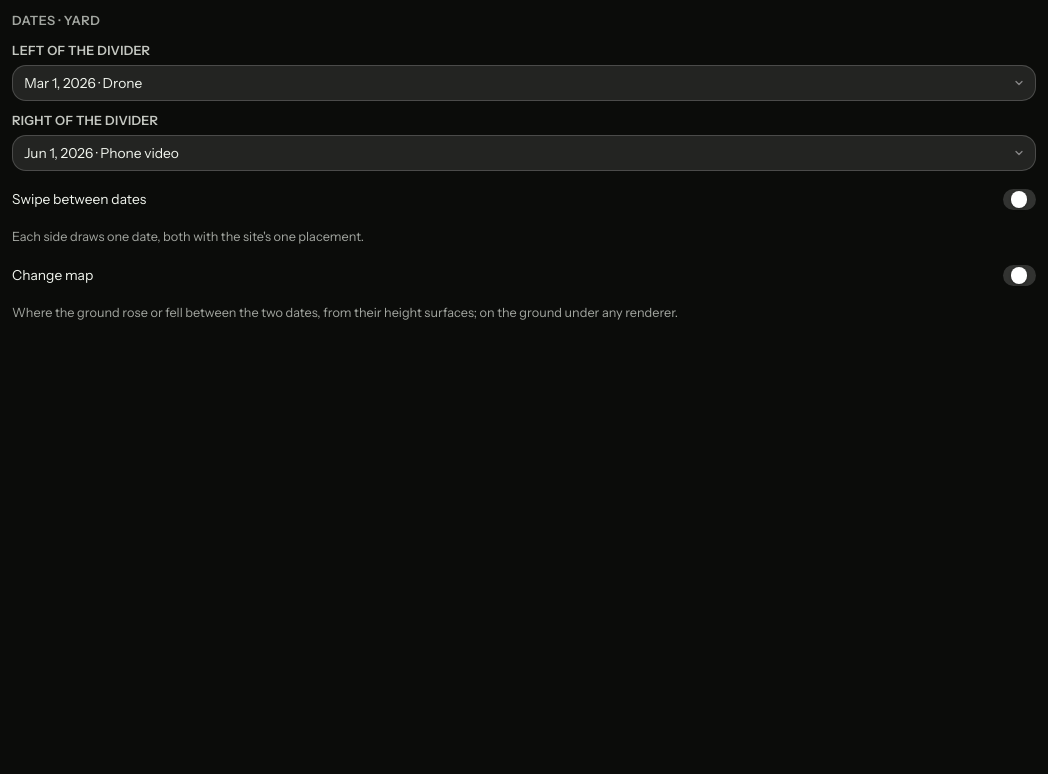
Scenario: the drape and its legend › says nothing of survey grade when both dates are survey-grade
The width and height of the screenshot is (1048, 774).
Click the switch named "Change map" in the row of "Change map": {"x": 1019, "y": 276} [1003,265,1036,286]
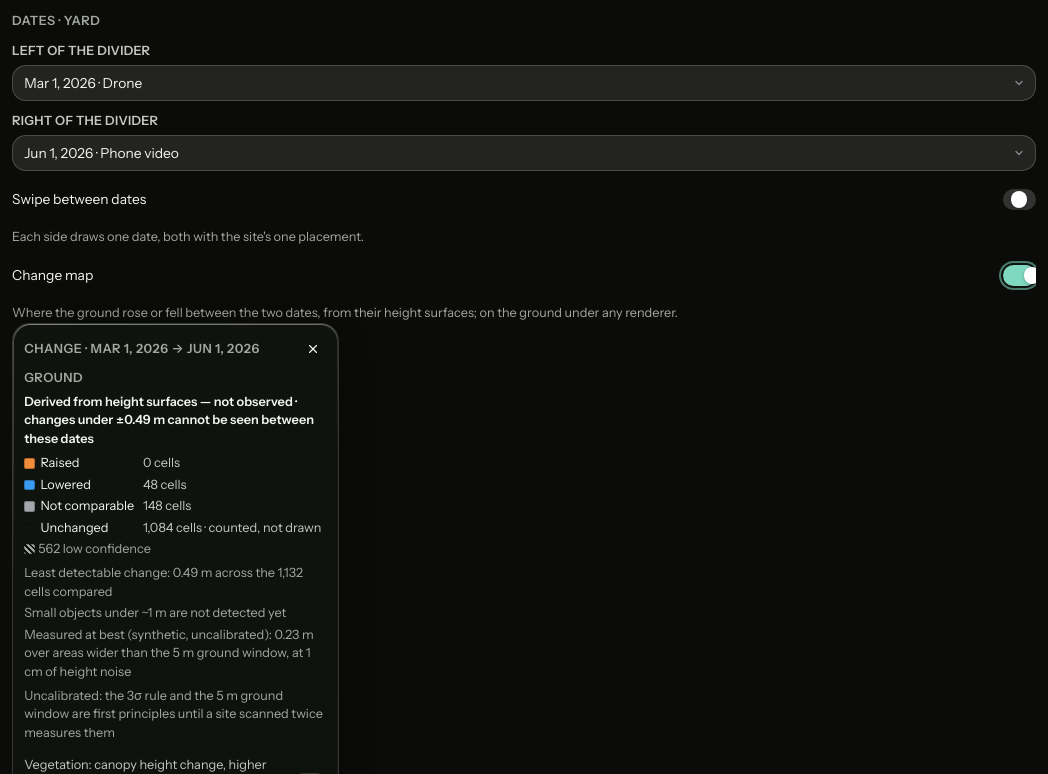
Check: the text with test id "change-drape-label" is shown, box [24,393,327,448]
